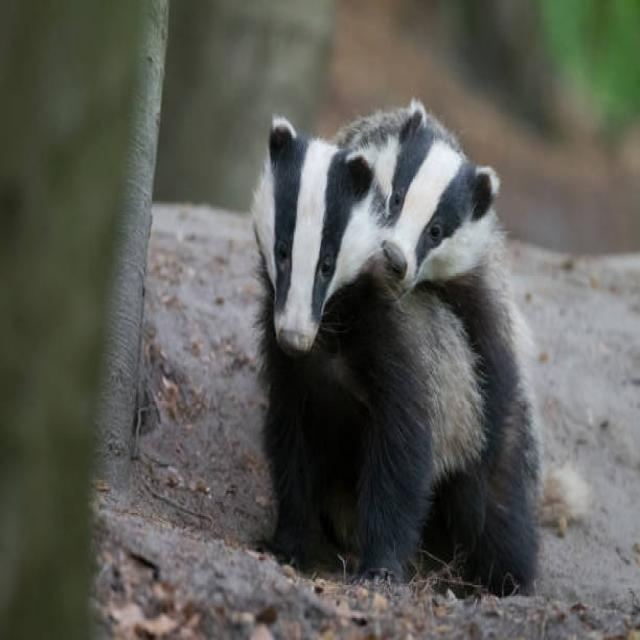Badger: (254, 100, 541, 592)
